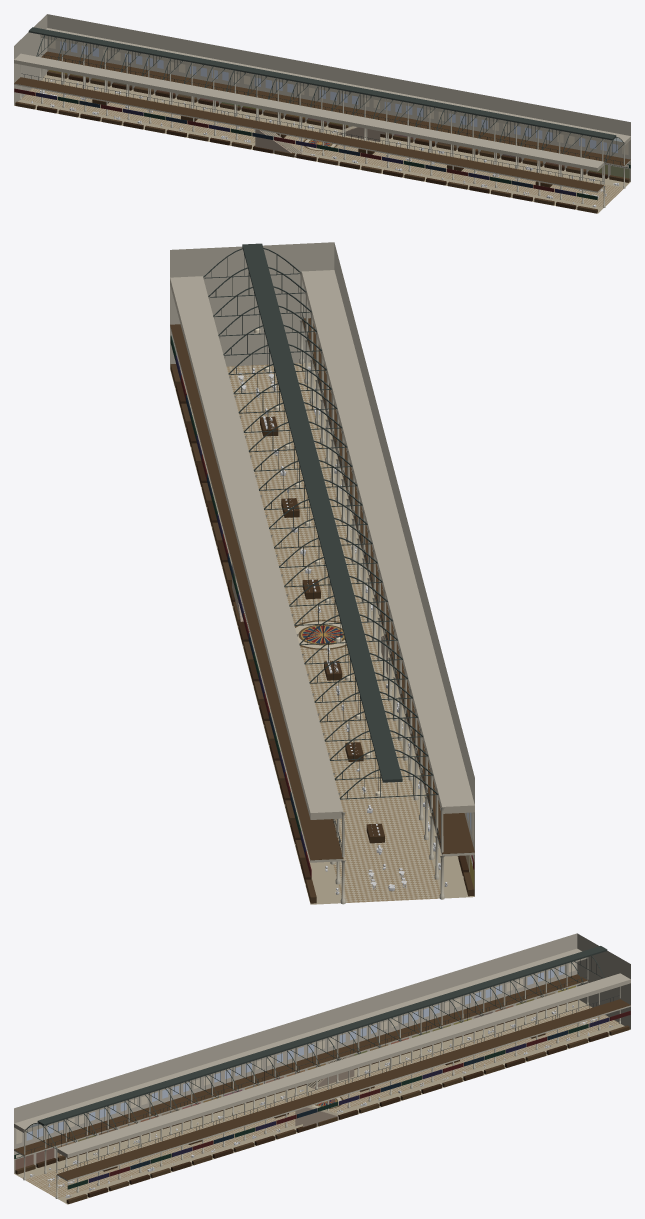
The model's file is ferry_int.glb.
3 renders of one model, top to bottom at view 1: azimuth 30°, elevation 25°; view 2: azimuth 150°, elevation 25°; view 3: azimuth 270°, elevation 25°, orthographic. The views are drawn at different scales.
Visible parts, largest first — view 1: I_x_plaster, I_x_veneer, I_tiles, I_metal, I_paint, I_sky, I_lampI, I_x_marble_white, I_screen; view 2: I_x_plaster, I_tiles, I_metal, I_x_veneer, I_paint; view 3: I_x_plaster, I_x_veneer, I_tiles, I_metal, I_paint, I_sky, I_screen, I_lampI, I_x_marble_white.
Part boxes in pixels (x1,y1,x2,y2): I_x_plaster: [14, 14, 630, 192]; I_x_veneer: [14, 51, 630, 213]; I_tiles: [14, 74, 630, 213]; I_metal: [21, 27, 623, 184]; I_paint: [14, 34, 630, 207]; I_sky: [60, 41, 617, 152]; I_lampI: [49, 39, 628, 154]; I_x_marble_white: [255, 126, 384, 157]; I_screen: [48, 70, 629, 178]; I_x_plaster: [170, 242, 474, 896]; I_tiles: [170, 362, 474, 904]; I_metal: [203, 243, 442, 858]; I_x_veneer: [170, 318, 474, 903]; I_paint: [170, 272, 474, 904]; I_x_plaster: [14, 933, 630, 1181]; I_x_veneer: [14, 974, 630, 1203]; I_tiles: [14, 1000, 630, 1204]; I_metal: [25, 946, 619, 1171]; I_paint: [14, 957, 630, 1198]; I_sky: [26, 966, 564, 1140]; I_screen: [15, 985, 575, 1169]; I_lampI: [16, 962, 575, 1155]; I_x_marble_white: [295, 1054, 354, 1126].
Bounding box in the file's own units: 116 × 17.8 × 147.
